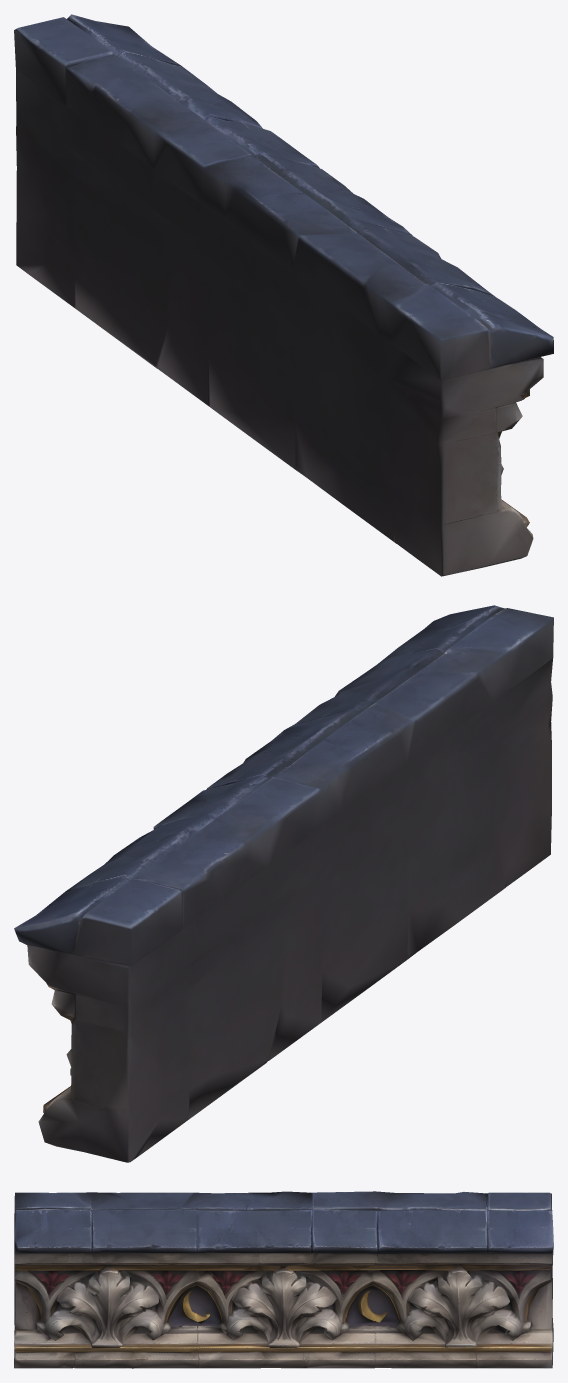
Rendered from castle_cornice_source.glb.
3 renders of one model, top to bottom at view 1: azimuth 30°, elevation 25°; view 2: azimuth 150°, elevation 25°; view 3: azimuth 270°, elevation 25°, orthographic. The views are drawn at different scales.
Parts seen in each view (by area): view 1: tripo_node_6f315101-f58b-4fc4-8607-2de3b77f330a; view 2: tripo_node_6f315101-f58b-4fc4-8607-2de3b77f330a; view 3: tripo_node_6f315101-f58b-4fc4-8607-2de3b77f330a.
Part boxes in pixels (x1,y1,x2,y2): tripo_node_6f315101-f58b-4fc4-8607-2de3b77f330a: [14, 14, 553, 576]; tripo_node_6f315101-f58b-4fc4-8607-2de3b77f330a: [14, 605, 553, 1162]; tripo_node_6f315101-f58b-4fc4-8607-2de3b77f330a: [14, 1191, 553, 1368].
Size of the model in its own units: 0.158 by 0.3056 by 0.9799.
Materials: 1 (1 with a texture image).
